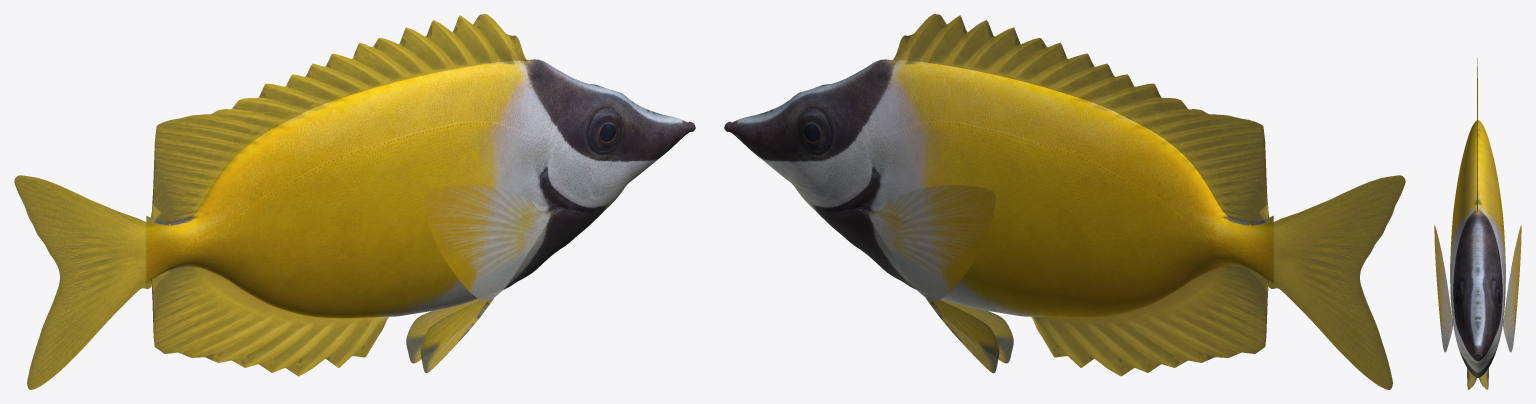
Rendered from vulpinus.glb.
3 renders of one model, left to right at view 1: azimuth 30°, elevation 25°; view 2: azimuth 150°, elevation 25°; view 3: azimuth 270°, elevation 25°, orthographic. The views are drawn at different scales.
Visible parts, largest first — view 1: vulpinus__body, vulpinus__fin_1, vulpinus__fin_0, vulpinus__fin_2, vulpinus__pectoral_1, vulpinus__gill_1, vulpinus__pelvic_1, vulpinus__pelvic_-1, vulpinus__eye_1; view 2: vulpinus__body, vulpinus__fin_1, vulpinus__fin_0, vulpinus__fin_2, vulpinus__pectoral_-1, vulpinus__gill_-1, vulpinus__pelvic_-1, vulpinus__pelvic_1, vulpinus__eye_-1; view 3: vulpinus__body, vulpinus__pectoral_1, vulpinus__pectoral_-1, vulpinus__eye_1, vulpinus__eye_-1, vulpinus__gill_1, vulpinus__gill_-1, vulpinus__fin_1, vulpinus__pelvic_1, vulpinus__pelvic_-1.
Boxes of the visible parts, x1,y1,x2,y2 form: vulpinus__body: (146,59,695,318); vulpinus__fin_1: (151,14,527,222); vulpinus__fin_0: (14,175,151,389); vulpinus__fin_2: (151,266,389,376); vulpinus__pectoral_1: (424,185,551,300); vulpinus__gill_1: (545,140,596,219); vulpinus__pelvic_1: (420,298,493,373); vulpinus__pelvic_-1: (406,299,480,363); vulpinus__eye_1: (590,110,622,151); vulpinus__body: (724,59,1273,318); vulpinus__fin_1: (893,14,1268,222); vulpinus__fin_0: (1267,175,1405,389); vulpinus__fin_2: (1031,266,1268,376); vulpinus__pectoral_-1: (868,185,995,300); vulpinus__gill_-1: (823,140,874,219); vulpinus__pelvic_-1: (926,298,999,373); vulpinus__pelvic_1: (939,299,1013,363); vulpinus__eye_-1: (797,110,829,151); vulpinus__body: (1450,120,1505,377); vulpinus__pectoral_1: (1434,225,1452,352); vulpinus__pectoral_-1: (1503,225,1521,352); vulpinus__eye_1: (1454,282,1463,312); vulpinus__eye_-1: (1492,282,1501,312); vulpinus__gill_1: (1451,275,1456,339); vulpinus__gill_-1: (1499,275,1504,339); vulpinus__fin_1: (1477,58,1477,212); vulpinus__pelvic_1: (1467,368,1476,389); vulpinus__pelvic_-1: (1479,368,1488,389).
Size of the model in its own units: 1.25 by 0.6082 by 0.1807.
Materials: 5 (5 with a texture image).
